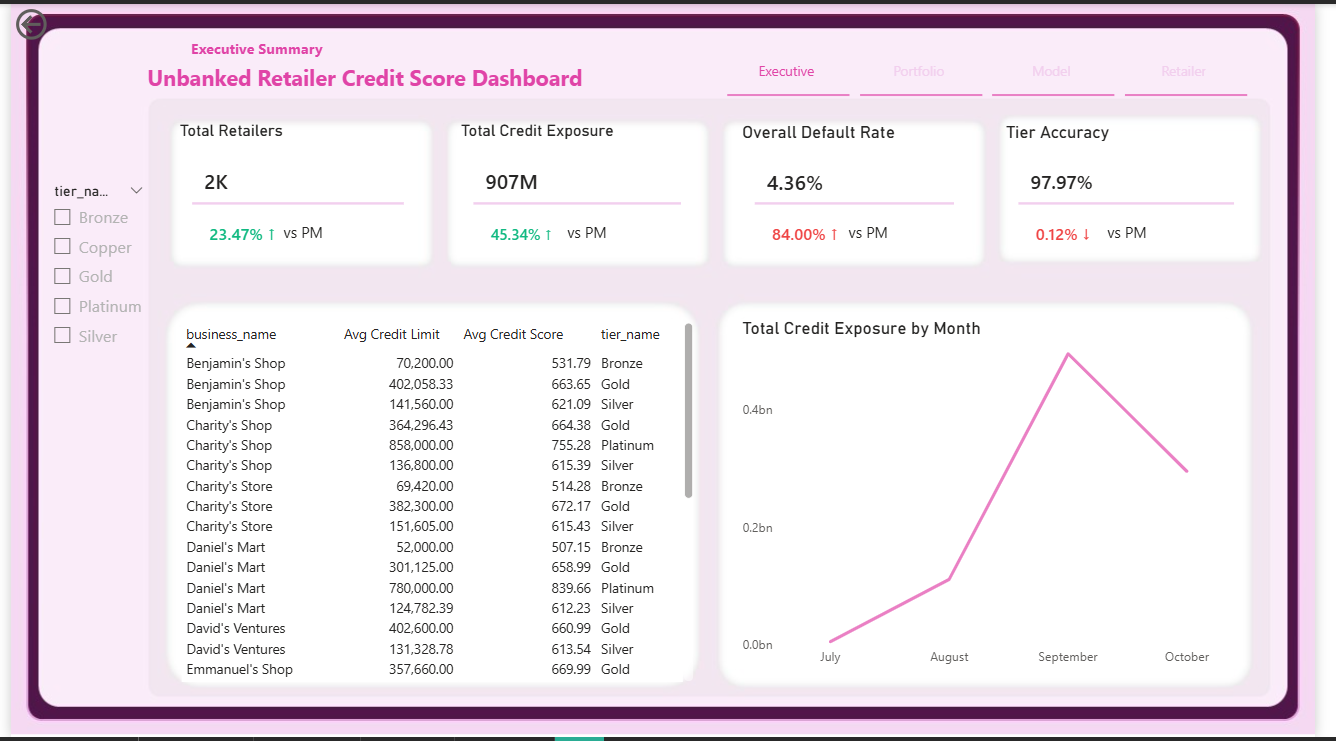

The dashboard page shown, as its layout file describes it:
{"tool":"powerbi","page":{"name":"Executive","canvas":[1280,720],"ordinal":0},"visuals":[{"type":"actionButton","box":[0,0,100,40],"z":0},{"type":"cardVisual","title":"Total Retailers","fields":{"Data":["_basic_count.Total Retailers"]},"box":[160.7,115.3,242.9,139.9],"z":1000},{"type":"cardVisual","title":"Total Credit Exposure","fields":{"Data":["credit_exposure_metrics.Total Credit Exposure"]},"box":[436.8,115.3,238,139.9],"z":2000},{"type":"cardVisual","title":"Tier Accuracy","fields":{"Data":["model_performance_metrics.Tier Accuracy"]},"box":[971.8,115.3,246.6,139.9],"z":3000},{"type":"cardVisual","title":"Overall Default Rate","fields":{"Data":["Portfolio_loss_rate.Actual Default Rate"]},"box":[712.9,115.3,230.7,139.9],"z":4000},{"type":"tableEx","fields":{"Values":["gold_dim_retailer.business_name","credit_exposure_metrics.Avg Credit Limit","model_performance_metrics.Avg Credit Score","gold_dim_risk_tier.tier_name"]},"box":[160.7,308,514.1,362],"z":5000},{"type":"lineChart","fields":{"Y":["credit_exposure_metrics.Total Credit Exposure"],"Category":["Local_Date_Table.Month"]},"box":[712.9,308,493.3,350.9],"z":6000},{"type":"textbox","box":[262.6,208.6,73.6,36.8],"z":7000},{"type":"textbox","box":[541.1,208.6,73.6,36.8],"z":8000},{"type":"textbox","box":[817.2,208.6,73.6,36.8],"z":9000},{"type":"textbox","box":[1071.2,208.6,73.6,36.8],"z":10000},{"type":"textbox","box":[128.8,52.8,511.7,45.4],"z":11000},{"type":"textbox","box":[171.8,29.4,463.8,47.9],"z":12000},{"type":"slicer","fields":{"Values":["gold_dim_risk_tier.tier_name"]},"box":[29.4,170.6,112.9,224.5],"z":13000},{"type":"pageNavigator","box":[703.1,34.4,512.9,56.4],"z":14000}]}

Visuals, with their boxes on the page's 1280x720 design canvas (x1, y1, x2, y2). These are canvas units, not pixel positions in the 1336x741 screenshot, which may show the page scaled, cropped or inside an application window:
actionButton: x1=0, y1=0, x2=100, y2=40
"Total Retailers" cardVisual: x1=161, y1=115, x2=404, y2=255
"Total Credit Exposure" cardVisual: x1=437, y1=115, x2=675, y2=255
"Tier Accuracy" cardVisual: x1=972, y1=115, x2=1218, y2=255
"Overall Default Rate" cardVisual: x1=713, y1=115, x2=944, y2=255
tableEx - gold_dim_retailer.business_name x credit_exposure_metrics.Avg Credit Limit: x1=161, y1=308, x2=675, y2=670
lineChart - credit_exposure_metrics.Total Credit Exposure x Local_Date_Table.Month: x1=713, y1=308, x2=1206, y2=659
textbox: x1=263, y1=209, x2=336, y2=245
textbox: x1=541, y1=209, x2=615, y2=245
textbox: x1=817, y1=209, x2=891, y2=245
textbox: x1=1071, y1=209, x2=1145, y2=245
textbox: x1=129, y1=53, x2=640, y2=98
textbox: x1=172, y1=29, x2=636, y2=77
slicer - gold_dim_risk_tier.tier_name: x1=29, y1=171, x2=142, y2=395
pageNavigator: x1=703, y1=34, x2=1216, y2=91
